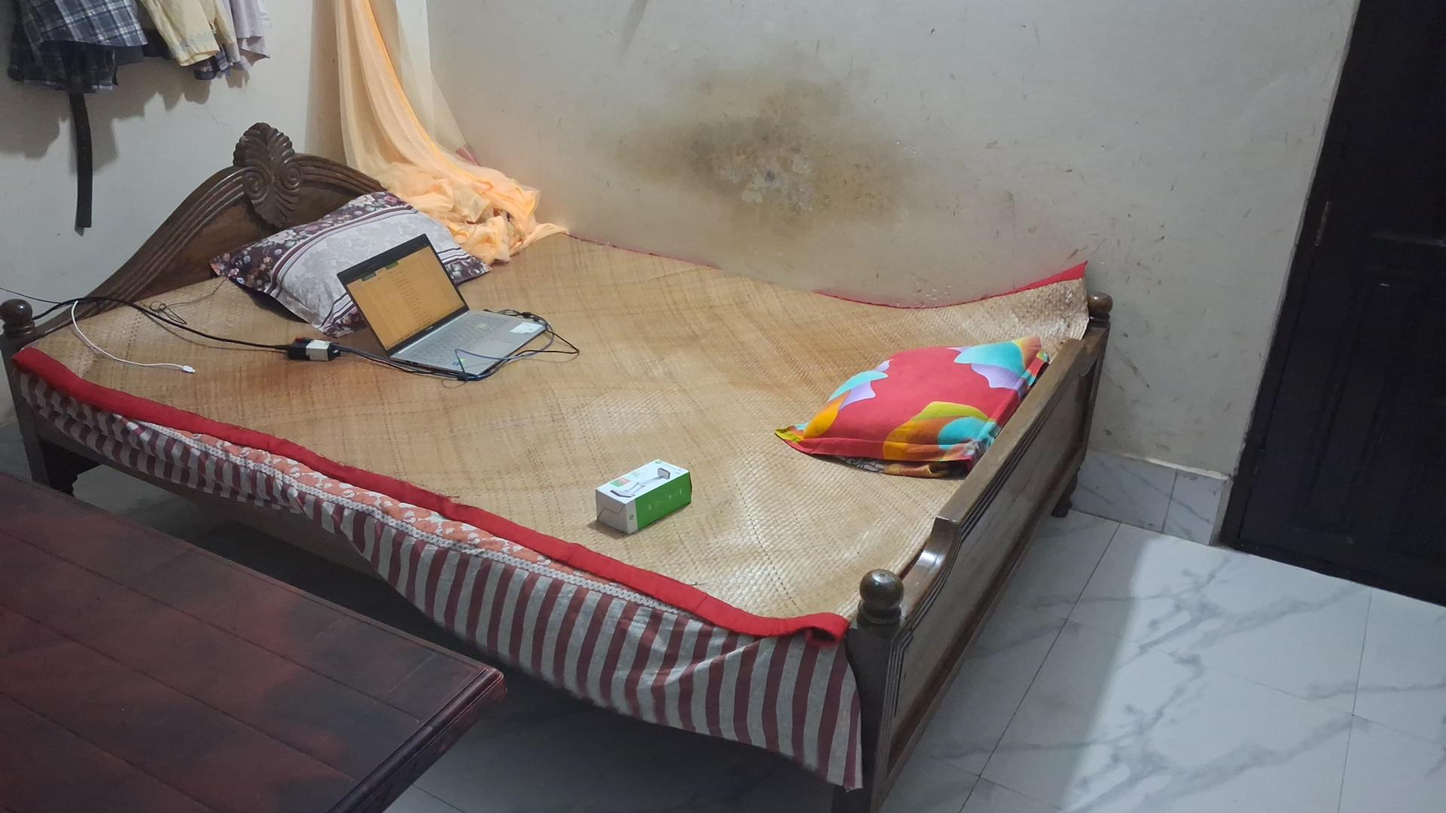Box: (589, 443, 695, 538)
Laptop: (334, 233, 550, 380)
Pillow: (790, 325, 1054, 480), (225, 190, 497, 321)
